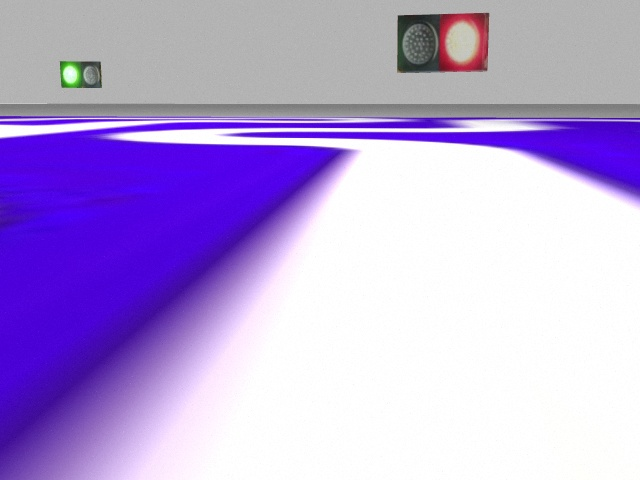red: (440, 13, 487, 71)
